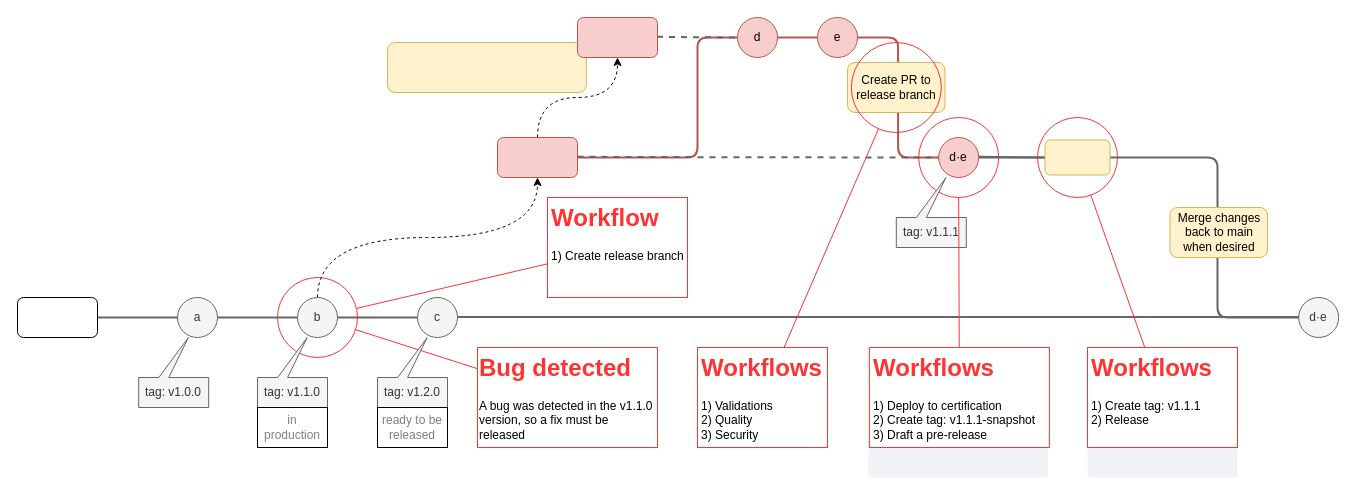
Some shapes in this 1357 by 495 pixel diagram are drawn without their labels. The box of each missing label's shape, as (x1, y1, x2, y2) in pixels:
Create working branch to prepare the fix / release: (386, 42, 586, 92)
fix/[TASK]: (576, 16, 658, 58)
GFW: ci-fix-gfw.yml TBD: ci-tbd.yml: (868, 447, 1048, 477)
GFW: release-fix-gfw.yml TBD: release-tbd.yml: (1087, 447, 1237, 477)
main: (16, 296, 98, 338)
publish pre-release: (1044, 139, 1110, 175)
release-v1.1.x: (496, 136, 578, 178)
